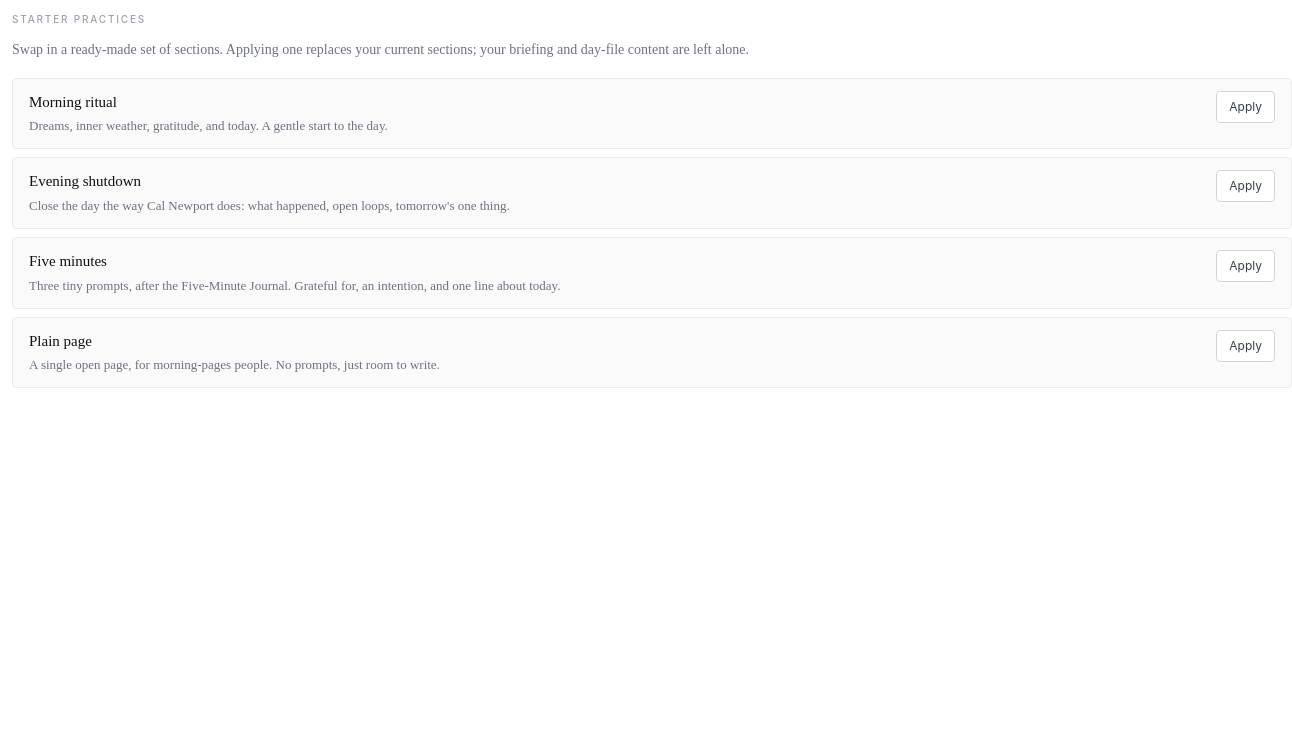
Test: PresetSection › cancels without applying
The width and height of the screenshot is (1292, 732).
Click the button "Apply" in the row of "Morning ritual": (1246,107) [1216, 91, 1275, 123]
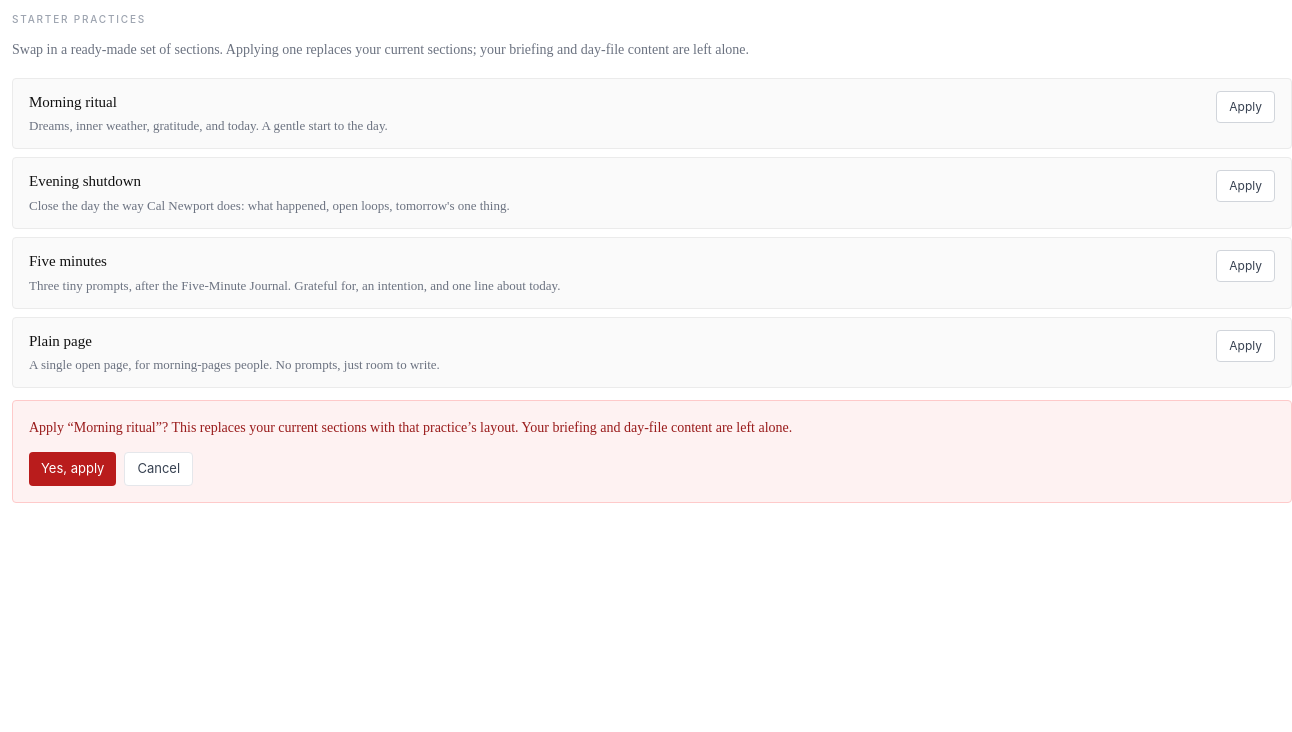
Click the button "Cancel": (159,469) [124, 452, 193, 486]
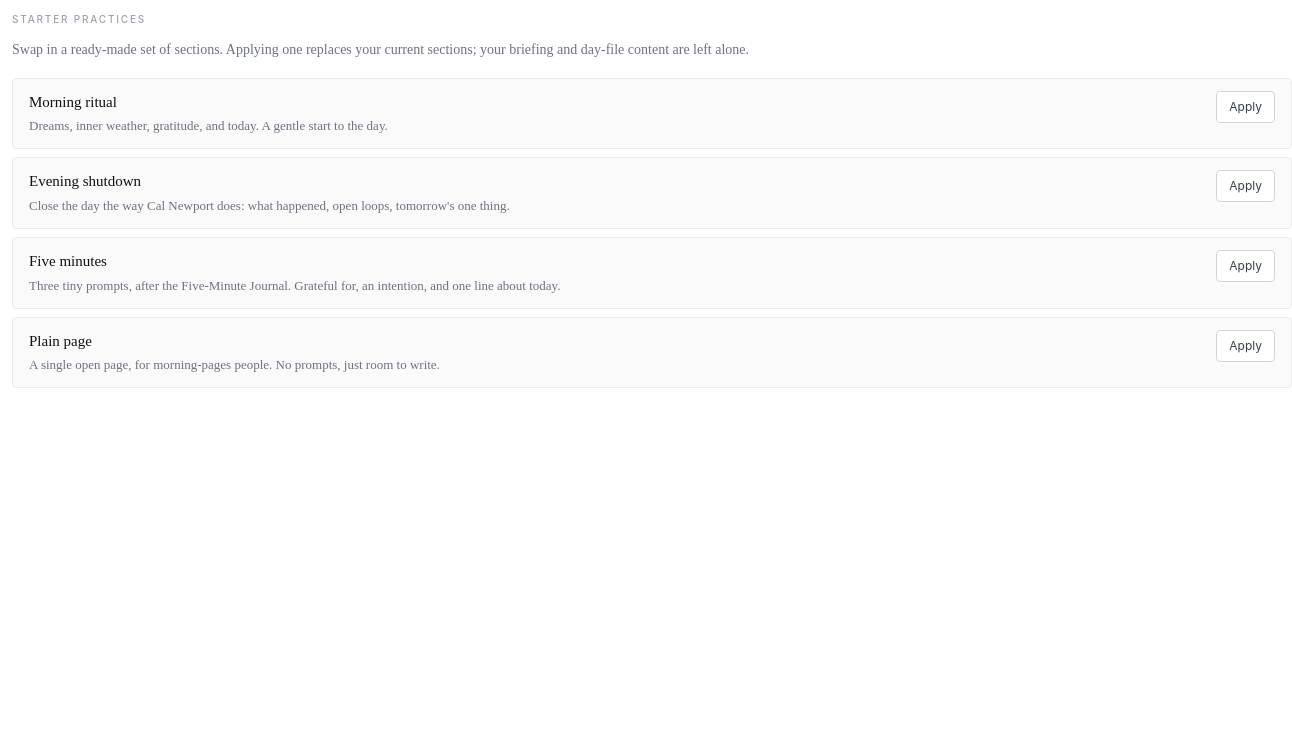
Check: the text "that practice" is gone
